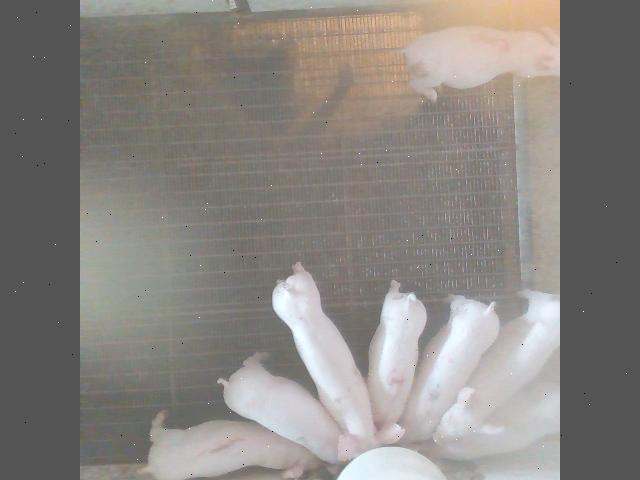pig-1: (139, 410, 323, 480)
pig-3: (400, 25, 558, 100)
pig-4: (366, 279, 426, 426)
